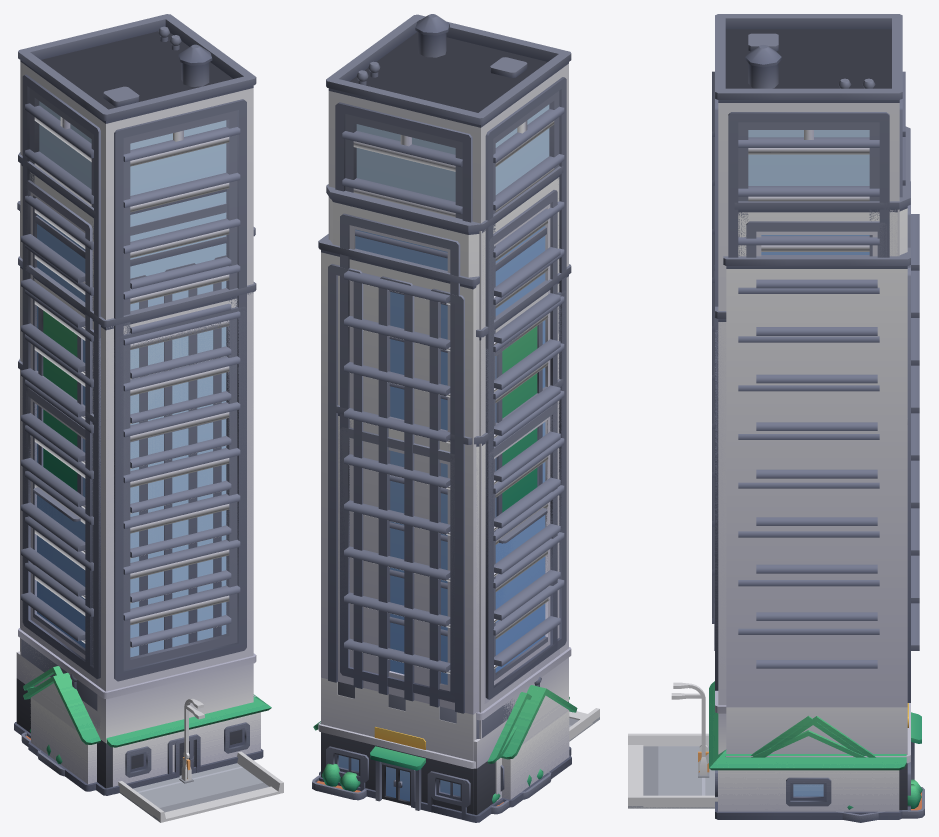
Rendered from ville.glb.
The picture shows the model from 3 angles, left to right: view 1: azimuth 30°, elevation 25°; view 2: azimuth 150°, elevation 25°; view 3: azimuth 270°, elevation 25°; orthographic projection. The views are drawn at different scales.
Visible parts, largest first — view 1: building-skyscraper-d, building-skyscraper-c, building-skyscraper-b, building-skyscraper-a, building-skyscraper-e, building-type-m, building-type-g, road_straight, road_straightBarrier; view 2: building-skyscraper-e, building-skyscraper-d, building-skyscraper-b, building-skyscraper-a, building-skyscraper-c, building-type-g, building-type-m, building-type-h; view 3: building-skyscraper-e, building-skyscraper-d, building-skyscraper-b, building-type-m, building-skyscraper-c, building-skyscraper-a, road_straight, road_straightBarrier, building-type-h, building-type-a, building-type-i, light_curved.
Boxes of the visible parts, box(x1,y1,x2,y2) form: building-skyscraper-d: box(18, 14, 256, 690); building-skyscraper-c: box(18, 256, 256, 795); building-skyscraper-b: box(18, 152, 231, 681); building-skyscraper-a: box(14, 358, 231, 786); building-skyscraper-e: box(17, 201, 255, 696); building-type-m: box(37, 694, 271, 794); building-type-g: box(21, 672, 100, 791); road_straight: box(119, 763, 283, 822); road_straightBarrier: box(118, 751, 283, 822); building-skyscraper-e: box(318, 227, 547, 821); building-skyscraper-d: box(326, 14, 571, 810); building-skyscraper-b: box(326, 166, 563, 711); building-skyscraper-a: box(329, 379, 564, 822); building-skyscraper-c: box(370, 264, 571, 813); building-type-g: box(490, 677, 577, 814); building-type-m: box(312, 697, 569, 800); building-type-h: box(487, 692, 531, 804); building-skyscraper-e: box(723, 181, 910, 811); building-skyscraper-d: box(712, 14, 908, 716); building-skyscraper-b: box(714, 126, 919, 663); building-type-m: box(709, 681, 924, 819); building-skyscraper-c: box(712, 306, 921, 808); building-skyscraper-a: box(714, 413, 919, 808); road_straight: box(628, 745, 714, 808); road_straightBarrier: box(628, 733, 717, 808); building-type-h: box(761, 716, 875, 757); building-type-a: box(751, 730, 865, 757); building-type-i: box(751, 716, 865, 755); light_curved: box(673, 682, 707, 775).
Bounding box in the file's own units: 1.45 × 5.47 × 1.96.
44 materials, 30 textured.
